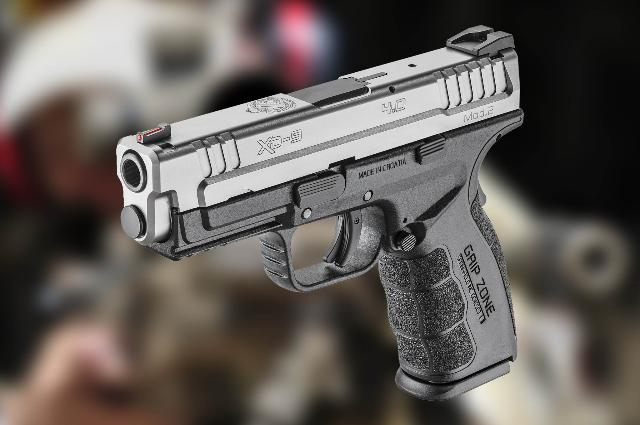handgun: (110, 19, 530, 408)
